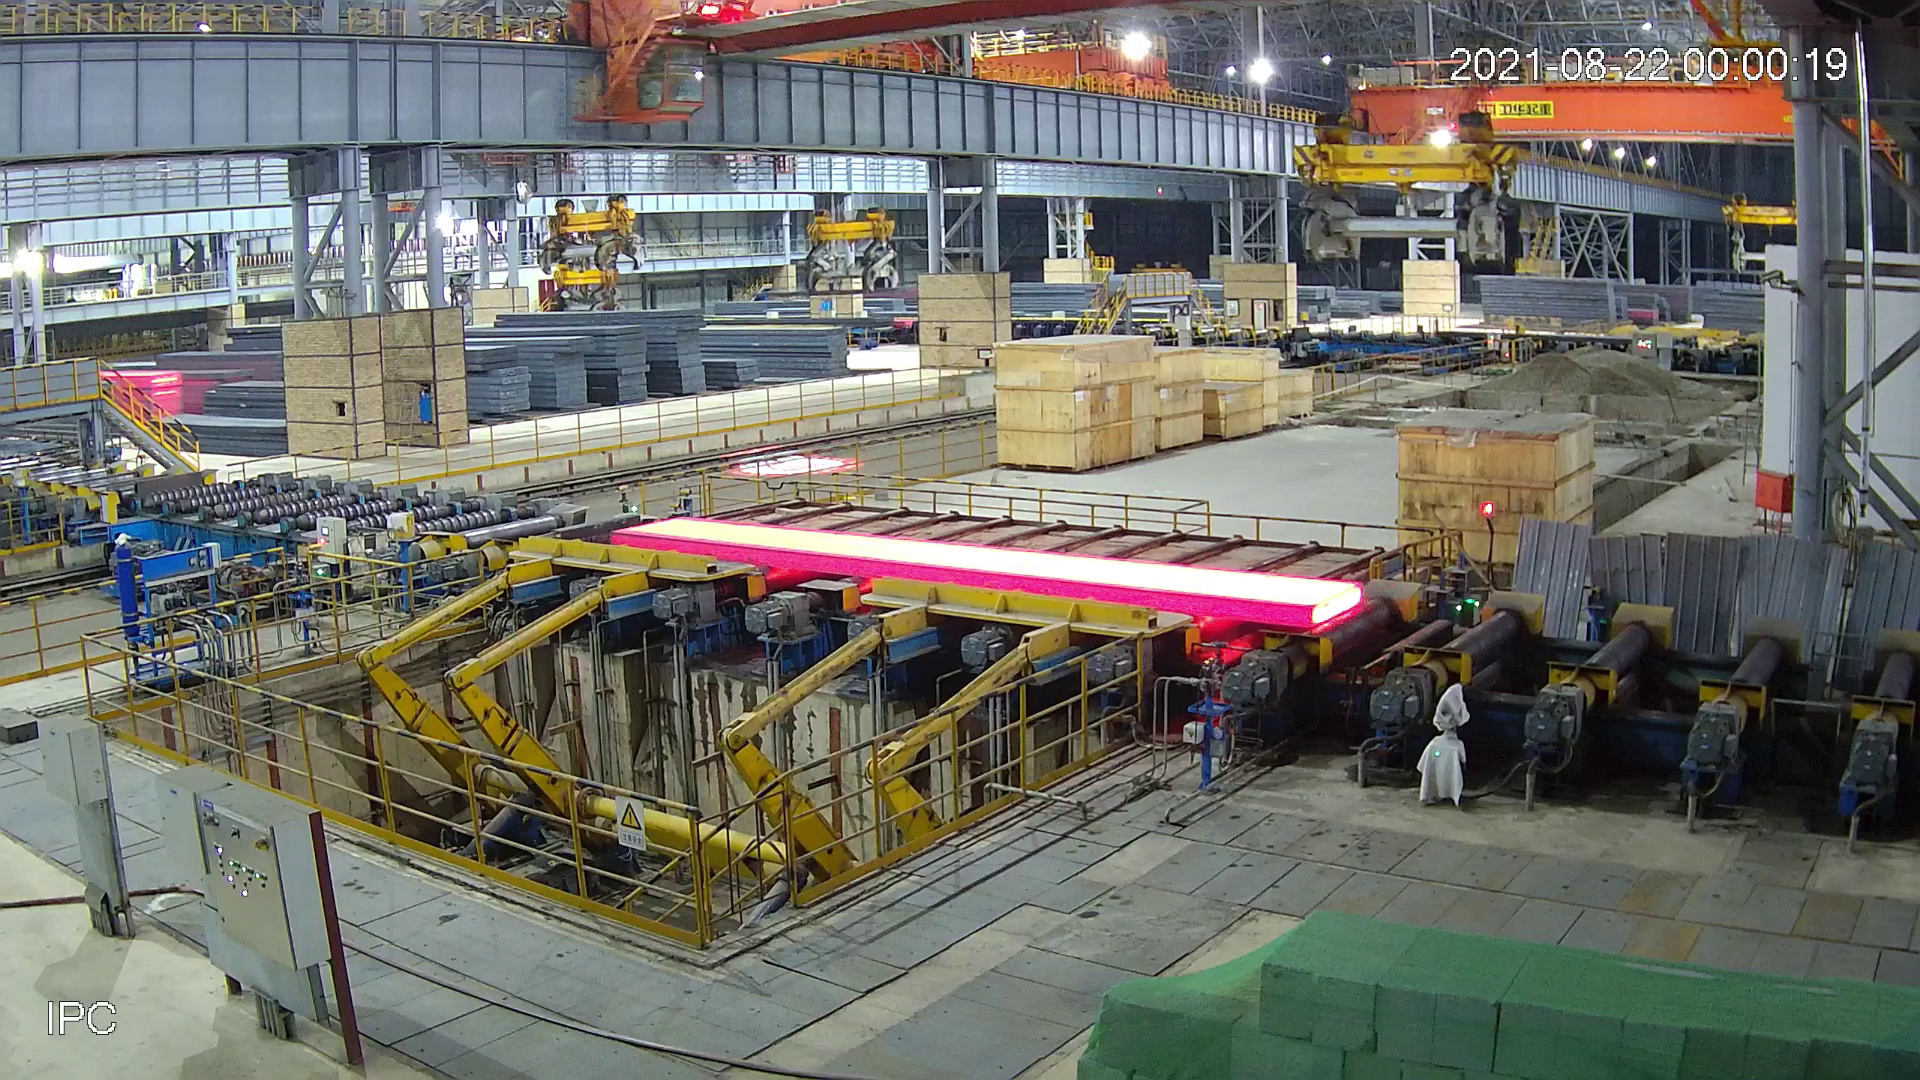slab: (603, 506, 1366, 632)
